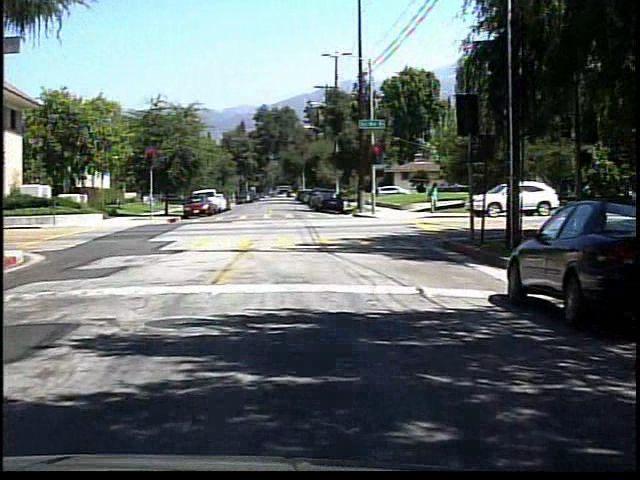person: (424, 177, 443, 216)
